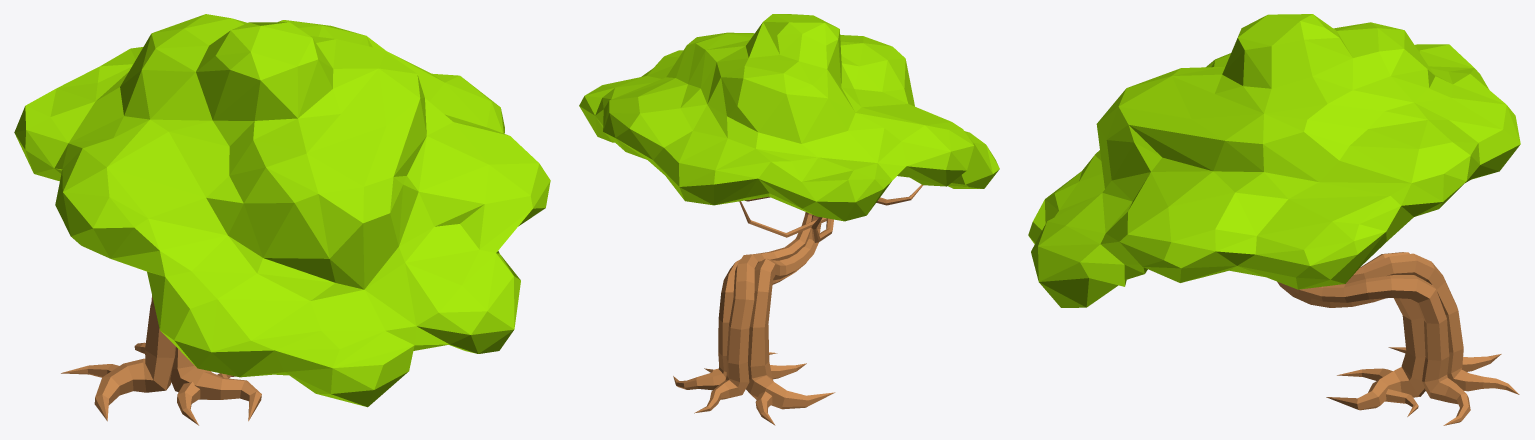
File: Tree_11.fbx
3 views of the same model, side by side, from view 1: azimuth 30°, elevation 25°; view 2: azimuth 150°, elevation 25°; view 3: azimuth 270°, elevation 25° (orthographic). The views are drawn at different scales.
Parts seen in each view (by area): view 1: tree_11; view 2: tree_11; view 3: tree_11.
Part boxes in pixels (x1,y1,x2,y2): tree_11: (14,14,550,425); tree_11: (579,14,999,425); tree_11: (1028,14,1520,425).
Bounding box in the file's own units: 1384 × 1204 × 1412.
